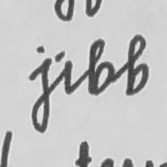b: (123, 33, 152, 97), (86, 36, 116, 97)
i: (55, 48, 78, 96)
j: (27, 45, 54, 135)
